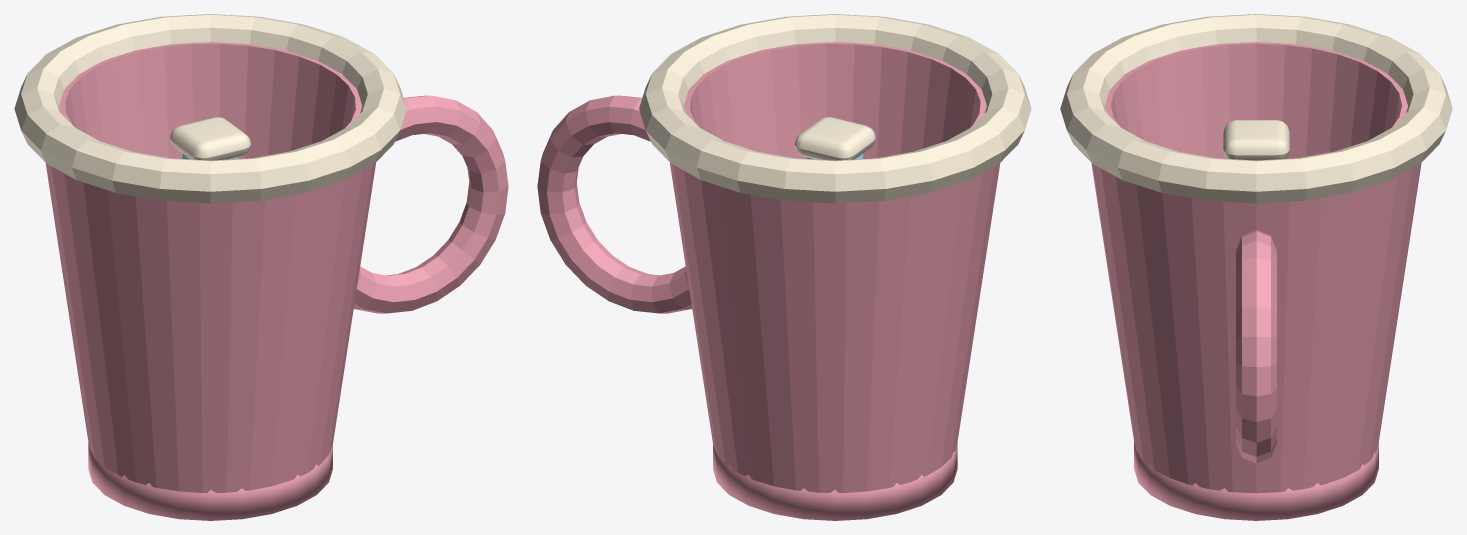
File: colour-kit.glb
3 renders of one model, left to right at view 1: azimuth 30°, elevation 25°; view 2: azimuth 150°, elevation 25°; view 3: azimuth 270°, elevation 25°, orthographic.
Parts seen in each view (by area): view 1: cup, bottle; view 2: cup, bottle; view 3: cup, bottle.
Part boxes in pixels (bbox=[...]): cup: bbox=[14, 14, 508, 520]; bottle: bbox=[170, 117, 251, 160]; cup: bbox=[537, 14, 1031, 520]; bottle: bbox=[794, 117, 875, 160]; cup: bbox=[1060, 14, 1452, 520]; bottle: bbox=[1223, 120, 1289, 160].
Size of the model in its own units: 1.05 by 0.835 by 0.77.
